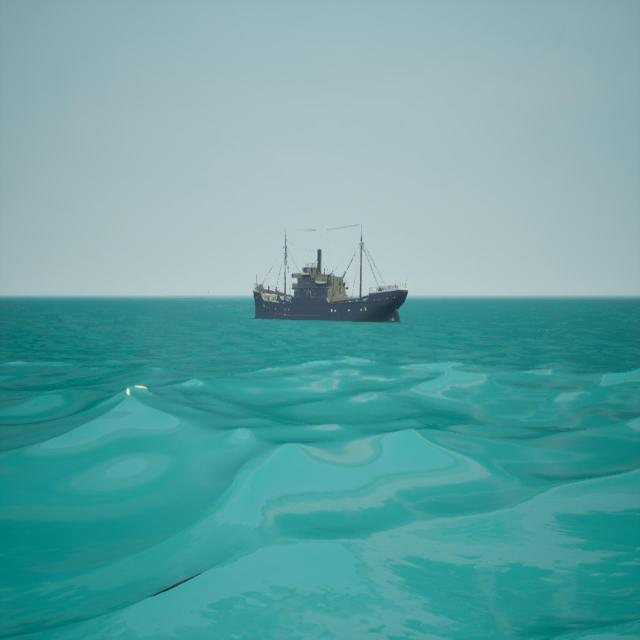fishing ship: (253, 226, 407, 324)
